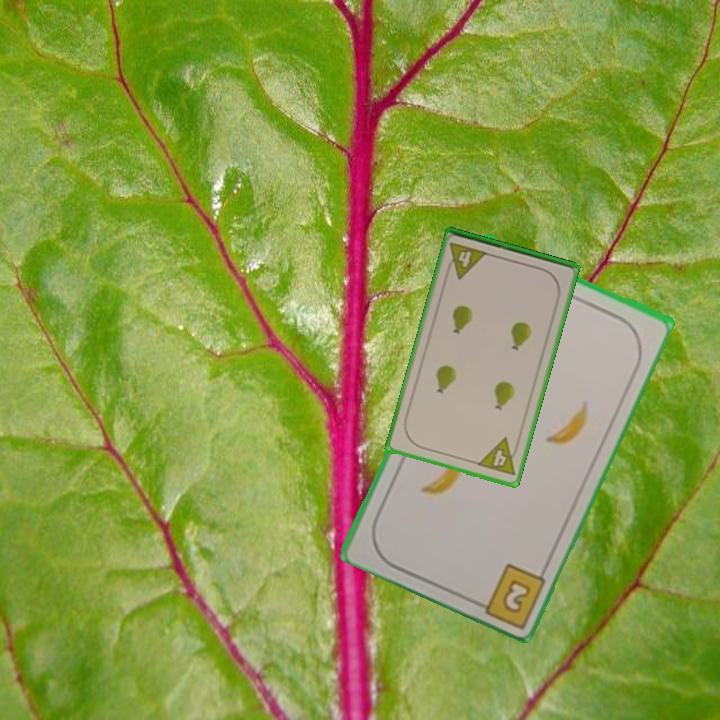2b: (468, 559, 548, 628)
4p: (474, 434, 523, 479), (442, 239, 490, 282)
